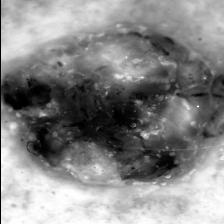Potentially Malignant Skin Tumors: (0, 25, 224, 185)
